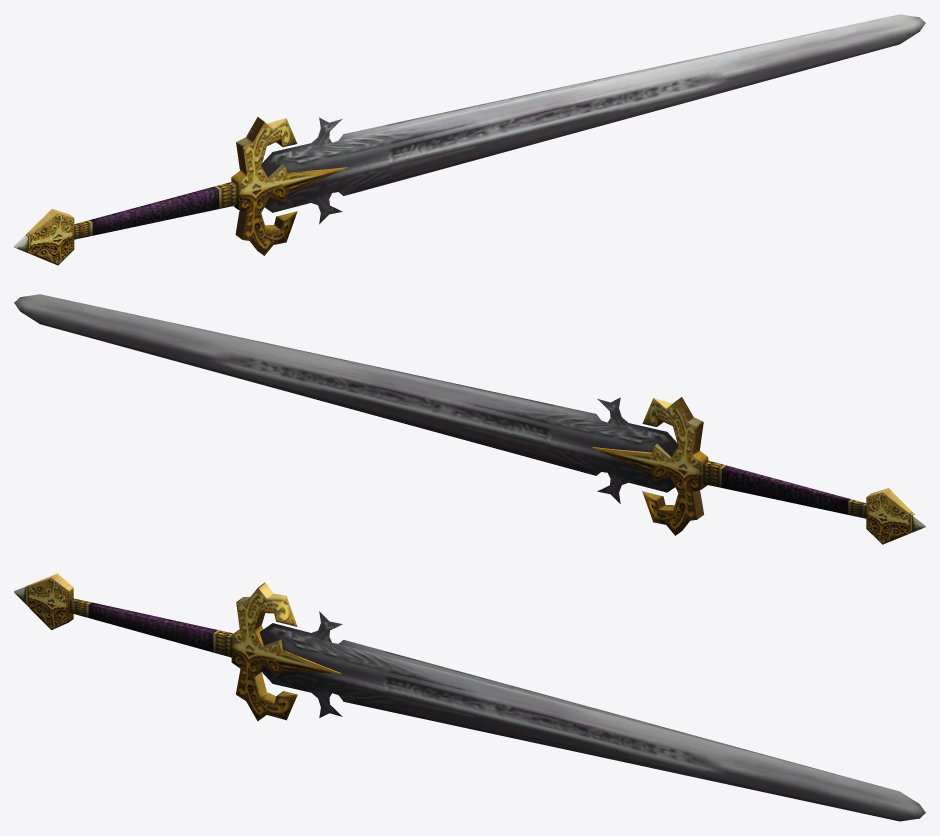
The picture shows the model from 3 angles, top to bottom: view 1: azimuth 30°, elevation 25°; view 2: azimuth 150°, elevation 25°; view 3: azimuth 330°, elevation 25°; orthographic projection.
Visible parts, largest first — view 1: it10640; view 2: it10640; view 3: it10640.
Part boxes in pixels (x1=…): it10640: x1=14, y1=14, x2=925, y2=265; it10640: x1=14, y1=294, x2=925, y2=544; it10640: x1=14, y1=573, x2=925, y2=821.
Size of the model in its own units: 5.15 by 0.7236 by 0.0688.
Materials: 4 (4 with a texture image).
